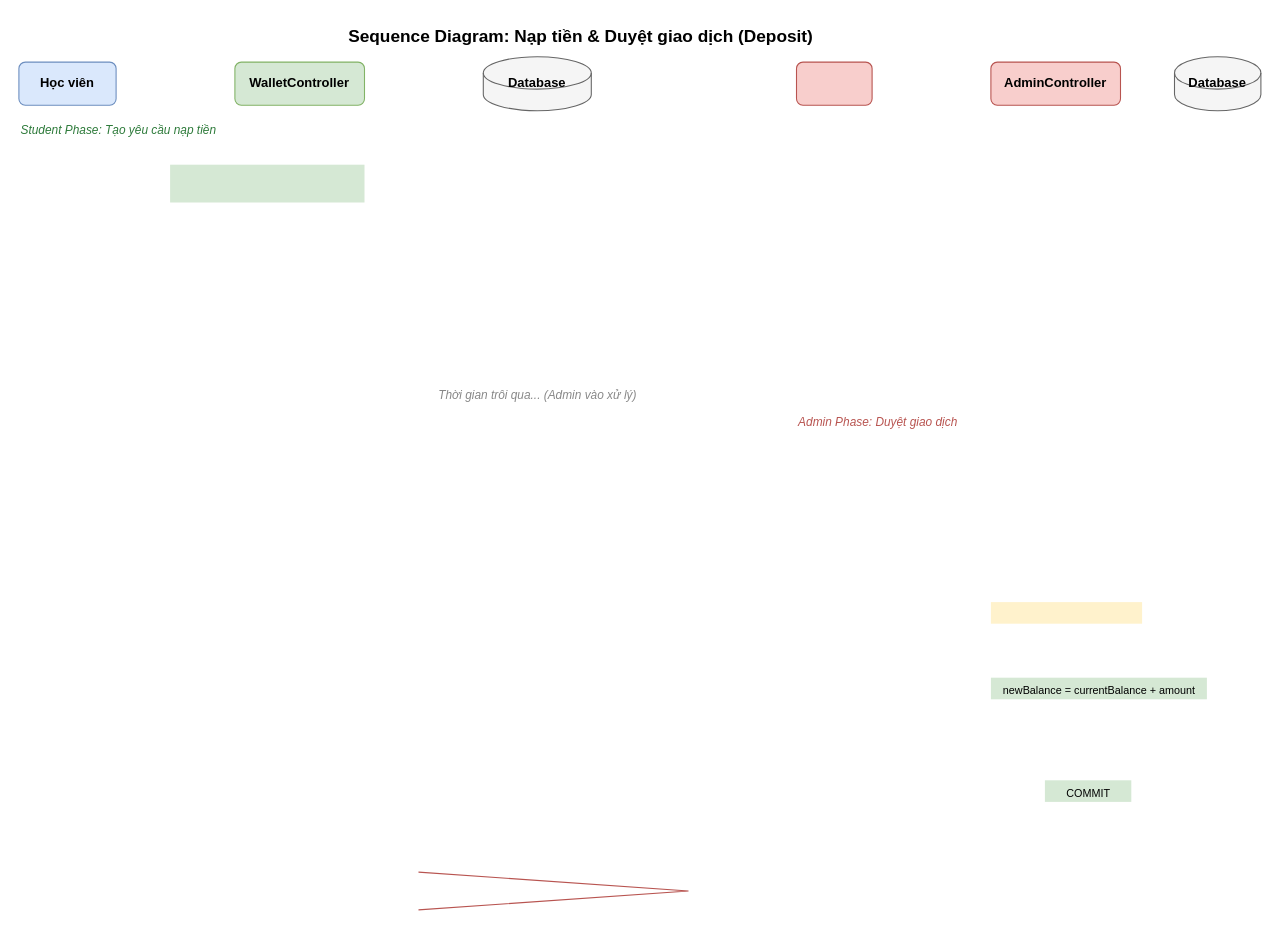
Image size: 1280x929. Some labels were removed from this diagram. Here are the shapes that lost their labels. From the top down, the centre of each, then its label:
At point 833,83: "Admin".
At point 267,183: "Validate: 10k <= amount <= 10M Check no pending deposit".
At point 1066,612: "BEGIN TRANSACTION".
At point 552,890: "alt [reject]".
